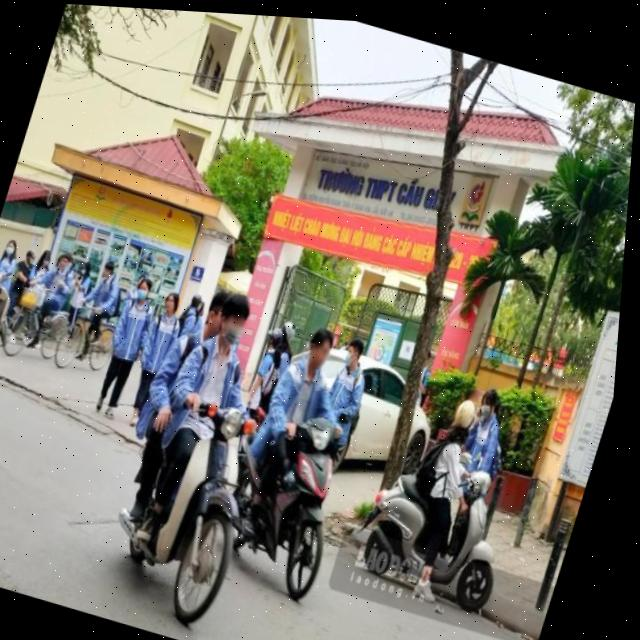motorcycle: (111, 386, 281, 640), (343, 430, 533, 624), (237, 411, 364, 609)
